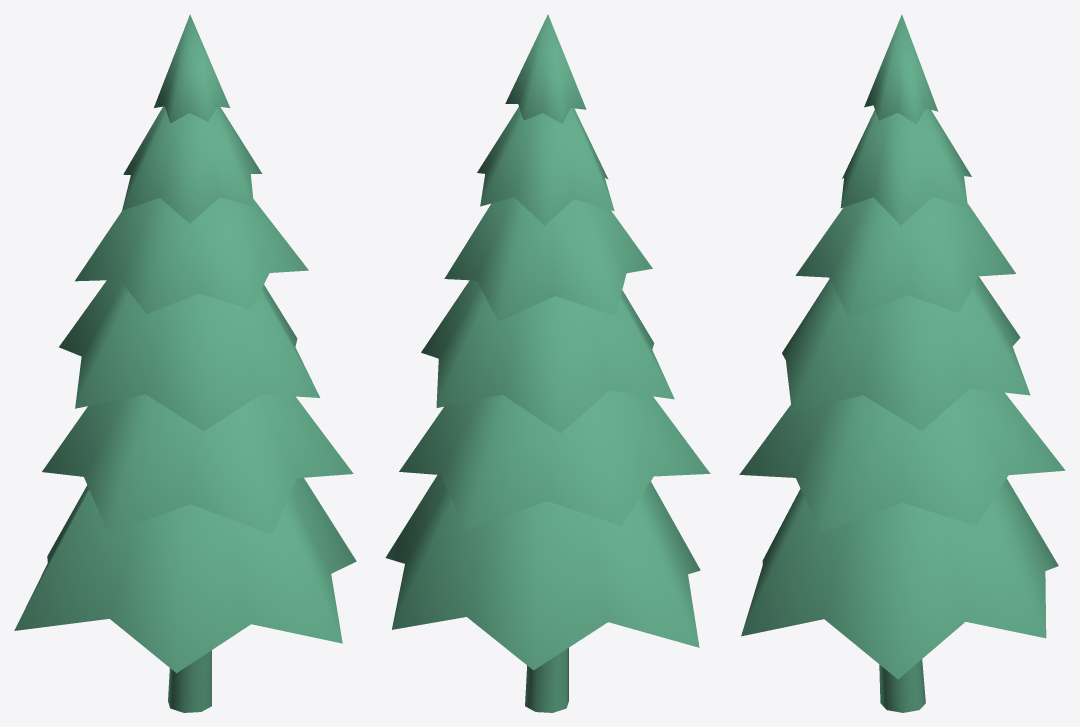
The model's file is tree.fbx.
The picture shows the model from 3 angles, left to right: view 1: azimuth 30°, elevation 25°; view 2: azimuth 150°, elevation 25°; view 3: azimuth 270°, elevation 25°; orthographic projection.
Visible parts, largest first — view 1: polySurface20; view 2: polySurface20; view 3: polySurface20.
Boxes of the visible parts, x1=… form: polySurface20: x1=14, y1=14, x2=356, y2=712; polySurface20: x1=385, y1=14, x2=710, y2=712; polySurface20: x1=739, y1=14, x2=1065, y2=712.
Size of the model in its own units: 5.77 by 11.57 by 4.97.
